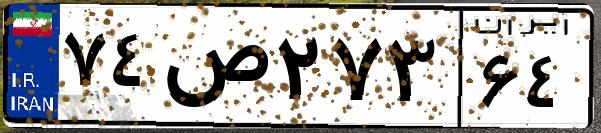2: (270, 28, 330, 110)
3: (385, 28, 445, 110)
4: (525, 38, 570, 115), (110, 28, 158, 98)
6: (475, 38, 525, 113)
7: (330, 28, 385, 110), (57, 26, 110, 100)
ص: (158, 20, 270, 120)
